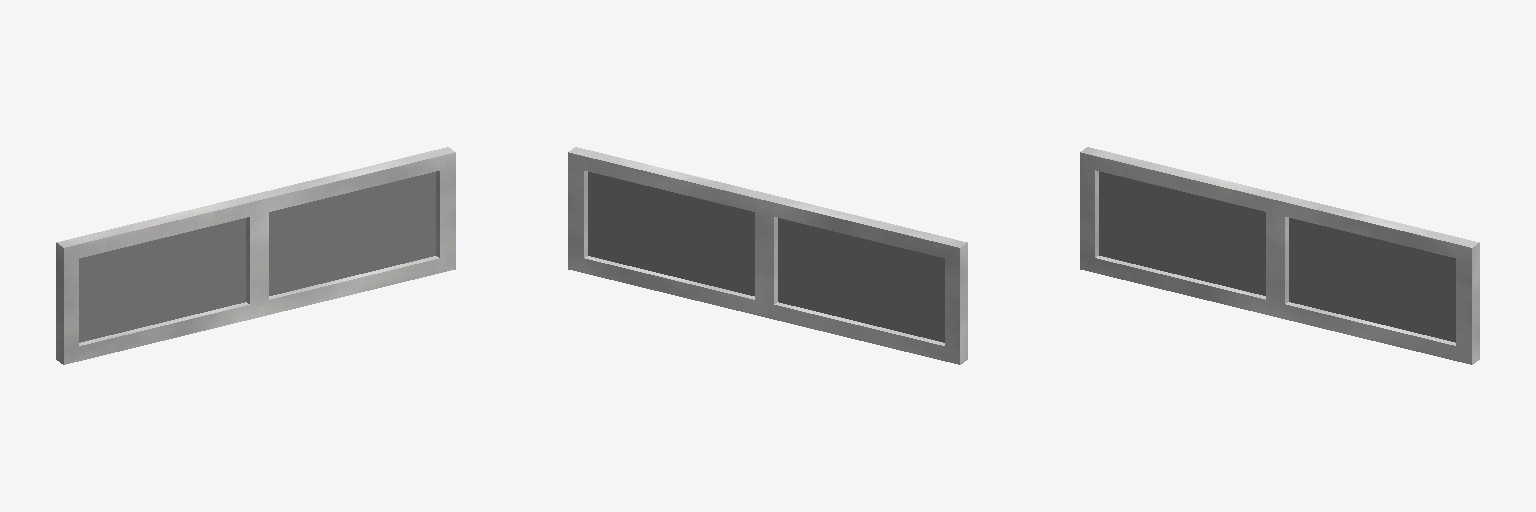
The picture shows the model from 3 angles: view 1: azimuth 30°, elevation 25°; view 2: azimuth 150°, elevation 25°; view 3: azimuth 330°, elevation 25°; orthographic projection.
Parts seen in each view (by area): view 1: Top_Window_Glass01, Window_Top01; view 2: Top_Window_Glass01, Window_Top01; view 3: Top_Window_Glass01, Window_Top01.
Boxes of the visible parts, x1,y1,x2,y2 form: Top_Window_Glass01: [79, 172, 435, 342]; Window_Top01: [56, 147, 455, 364]; Top_Window_Glass01: [588, 172, 944, 342]; Window_Top01: [568, 147, 967, 364]; Top_Window_Glass01: [1099, 171, 1455, 342]; Window_Top01: [1080, 147, 1479, 364].
Bounding box in the file's own units: 108 × 30.78 × 3.56.
Materials: 2 (1 with a texture image).